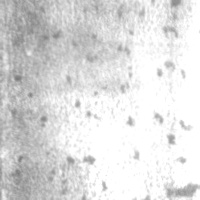pitted_surface: (15, 4, 151, 172), (149, 2, 200, 200)
